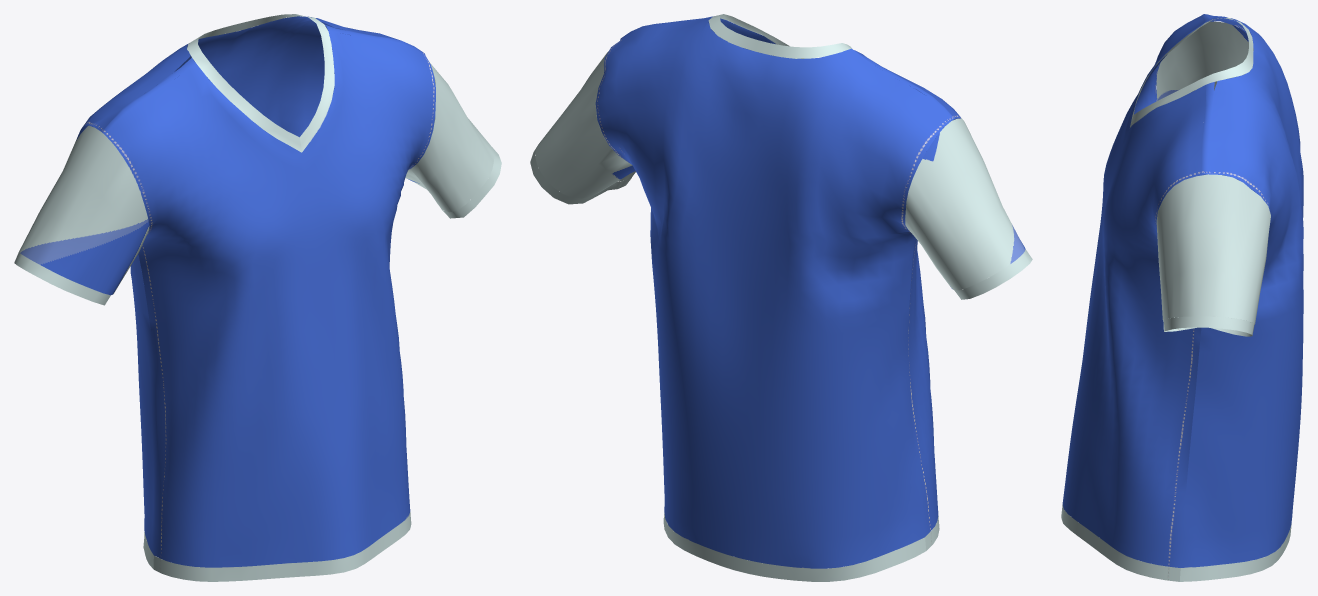
The model's file is 1TShirt.glb.
3 renders of one model, left to right at view 1: azimuth 30°, elevation 25°; view 2: azimuth 150°, elevation 25°; view 3: azimuth 270°, elevation 25°, orthographic. The views are drawn at different scales.
Visible parts, largest first — view 1: TShirt; view 2: TShirt; view 3: TShirt.
Part boxes in pixels (x1,y1,x2,y2): TShirt: (14,14,501,581); TShirt: (530,14,1032,581); TShirt: (1061,14,1303,581).
Size of the model in its own units: 0.7434 by 0.7522 by 0.3384.
Materials: 1 (1 with a texture image).
